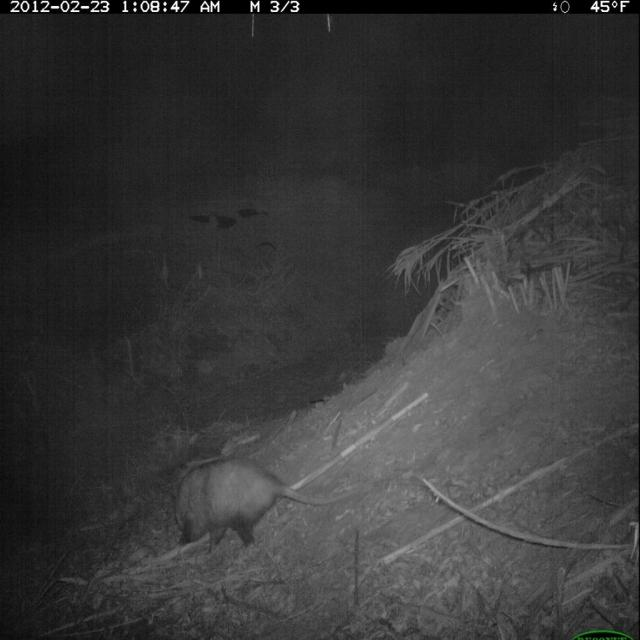opossum: (168, 449, 353, 567)
